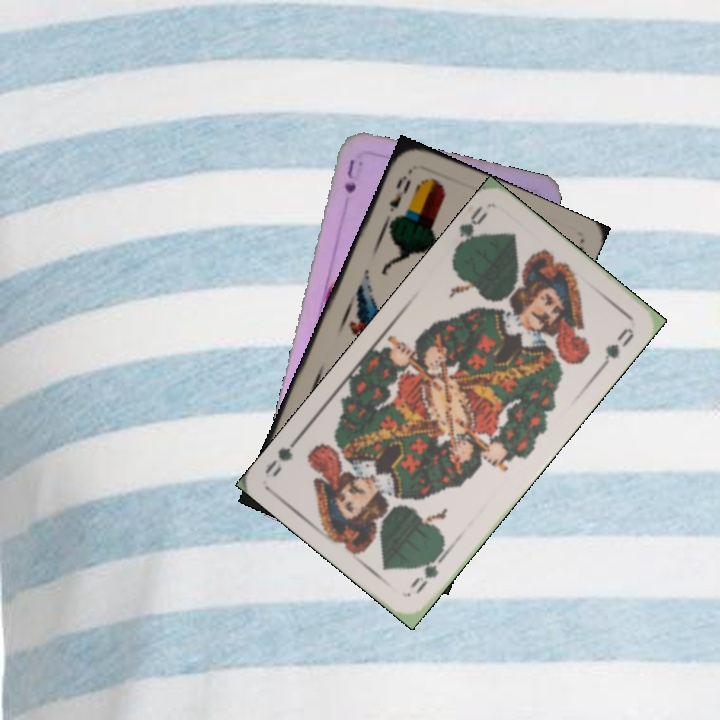EO: (385, 171, 414, 215)
GO: (406, 543, 451, 597), (449, 201, 490, 255)
SU: (340, 155, 365, 196)
